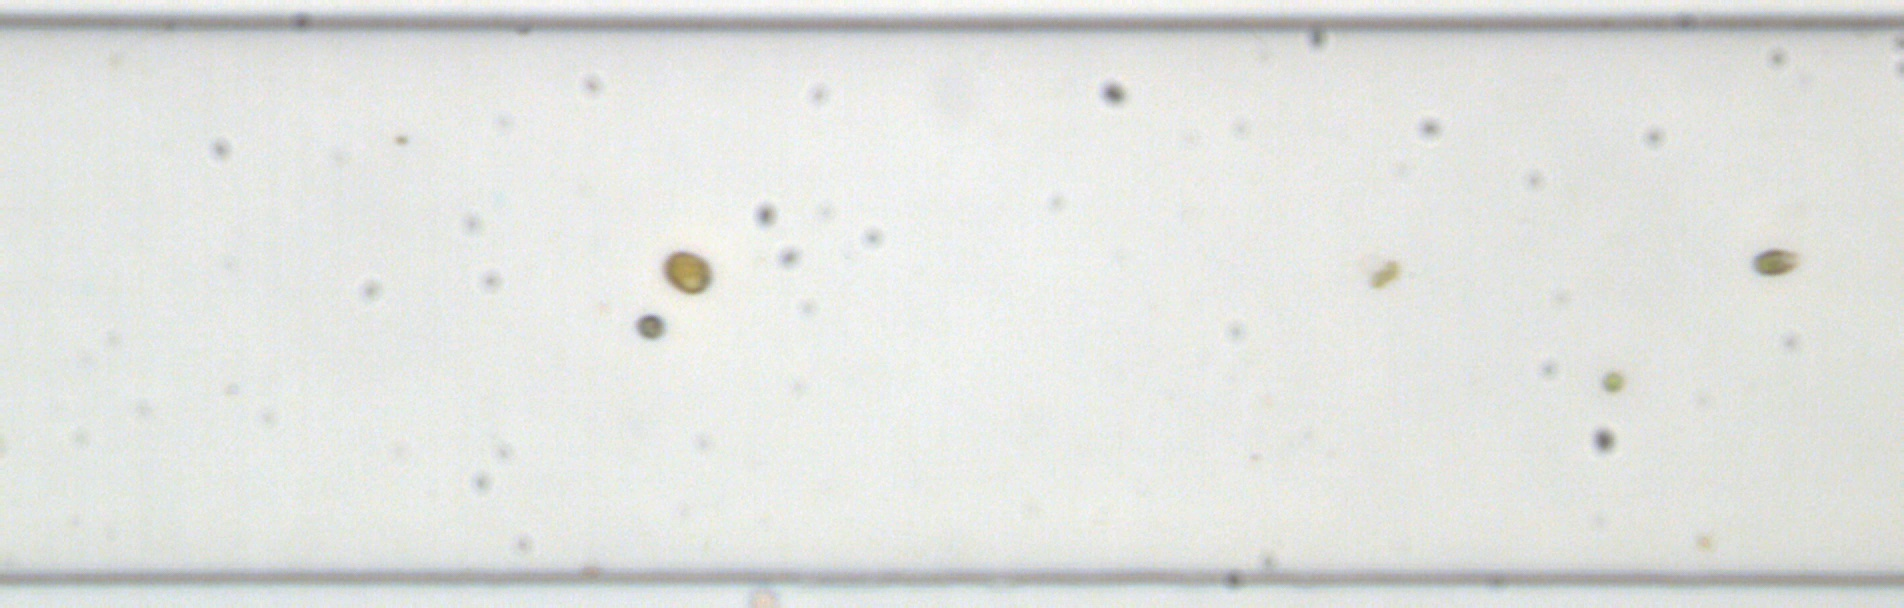Chlorella: (636, 313, 665, 339), (1599, 369, 1623, 394)
Dunaliella salina: (1749, 245, 1803, 278), (1366, 257, 1402, 288)
Effrenium: (659, 248, 713, 296)
